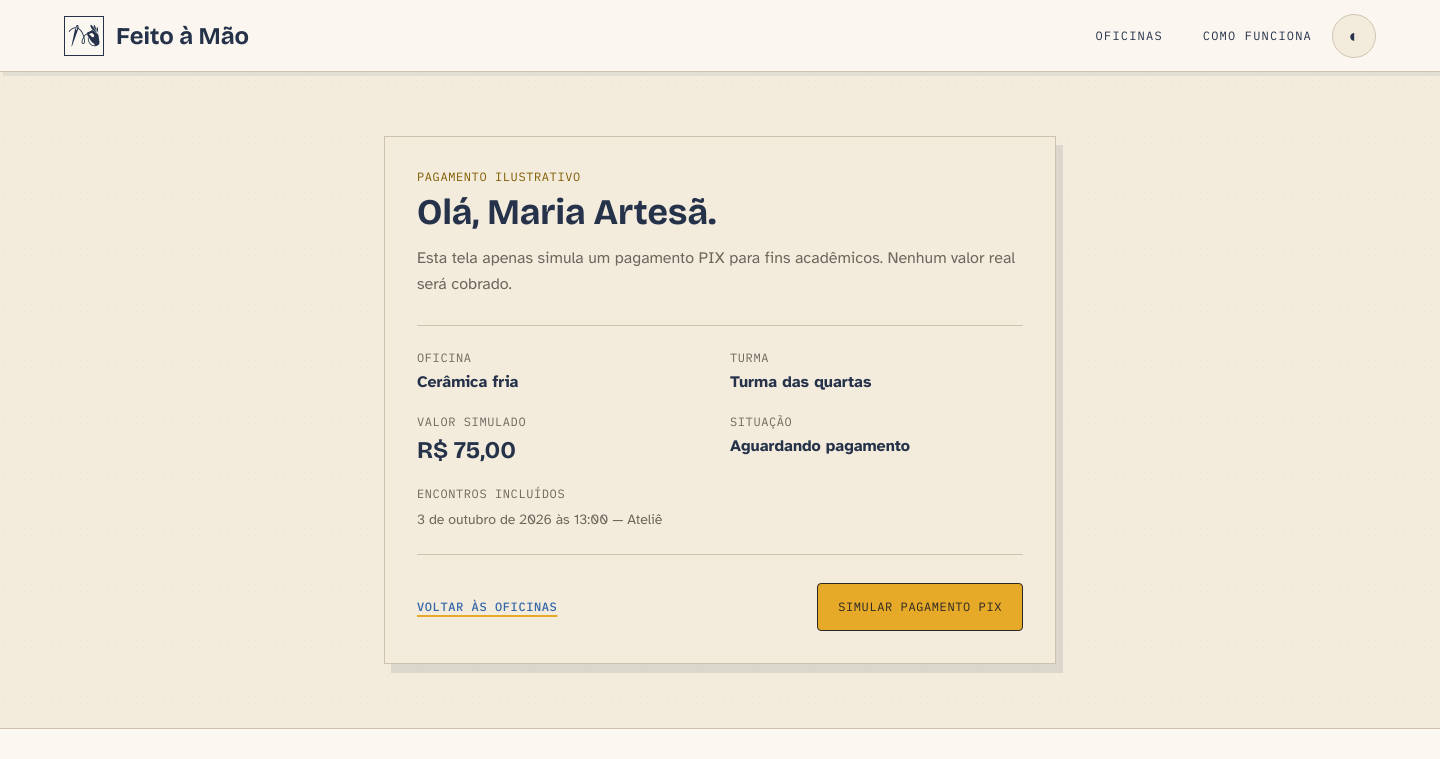
it: EnrollmentPaymentPage › makes the illustrative nature clear and registers payment
This screenshot has width=1440, height=759.
Check: the text "nenhum valor real será cobrado" is shown, box [417,248,1015,294]
Click the button "Simular pagamento PIX": [920, 607] box [817,583,1023,631]
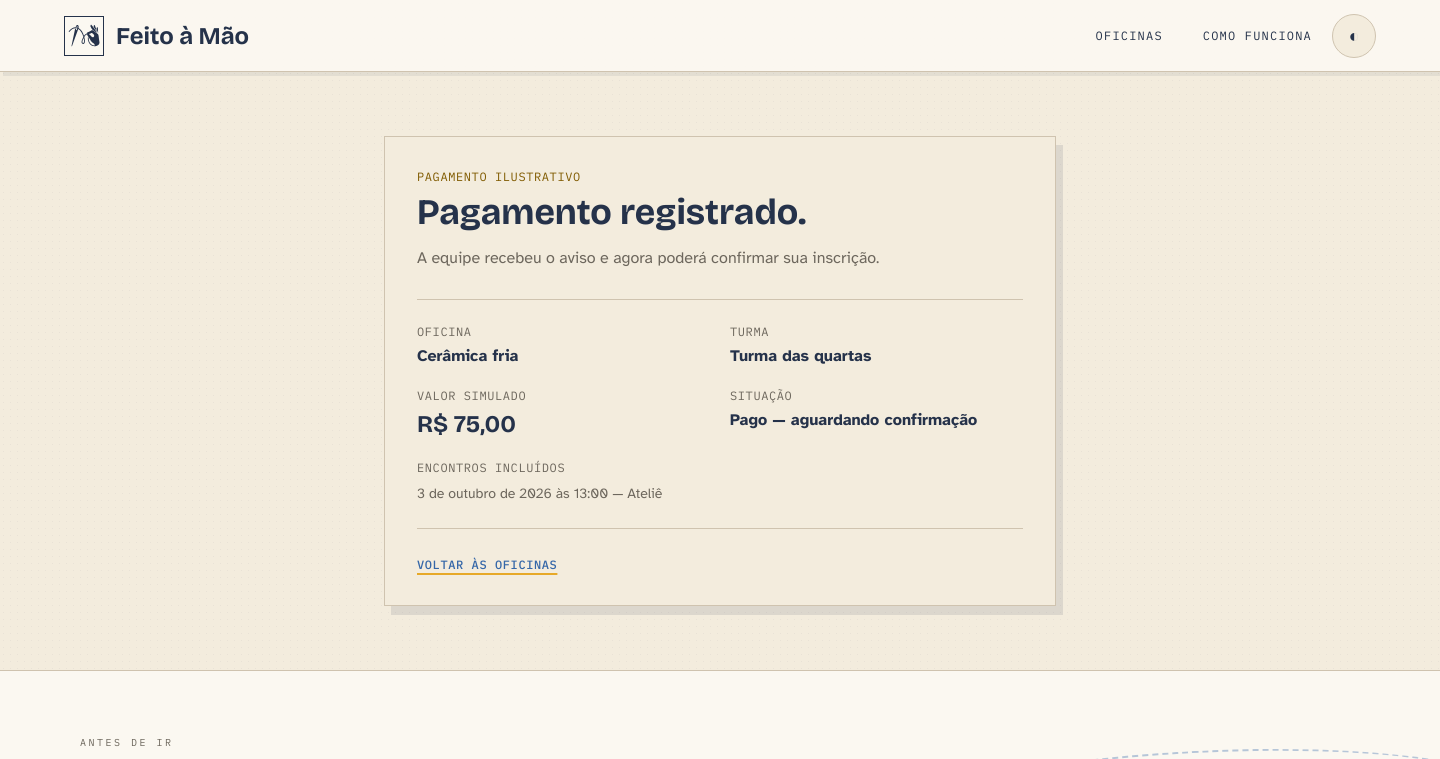
Check: the heading "Pagamento registrado." is shown, box [417,191,806,234]
Check: the text "Pago — aguardando confirmação" is shown, box [730,410,977,430]
